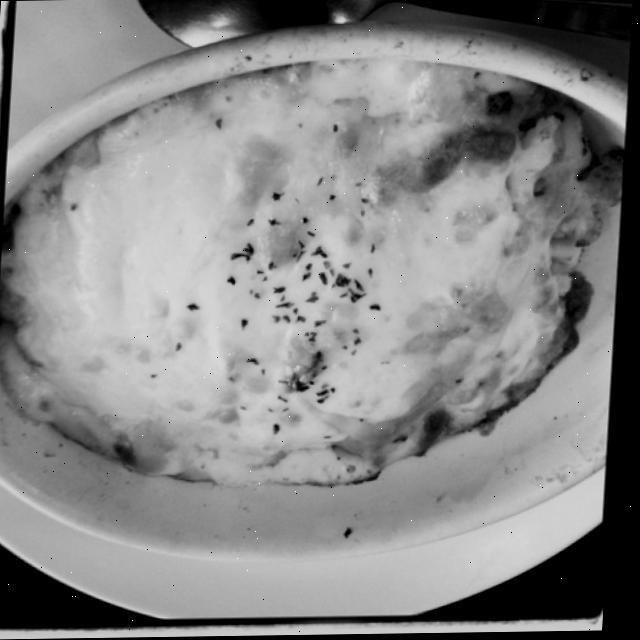米饭主食: (35, 41, 594, 500)
